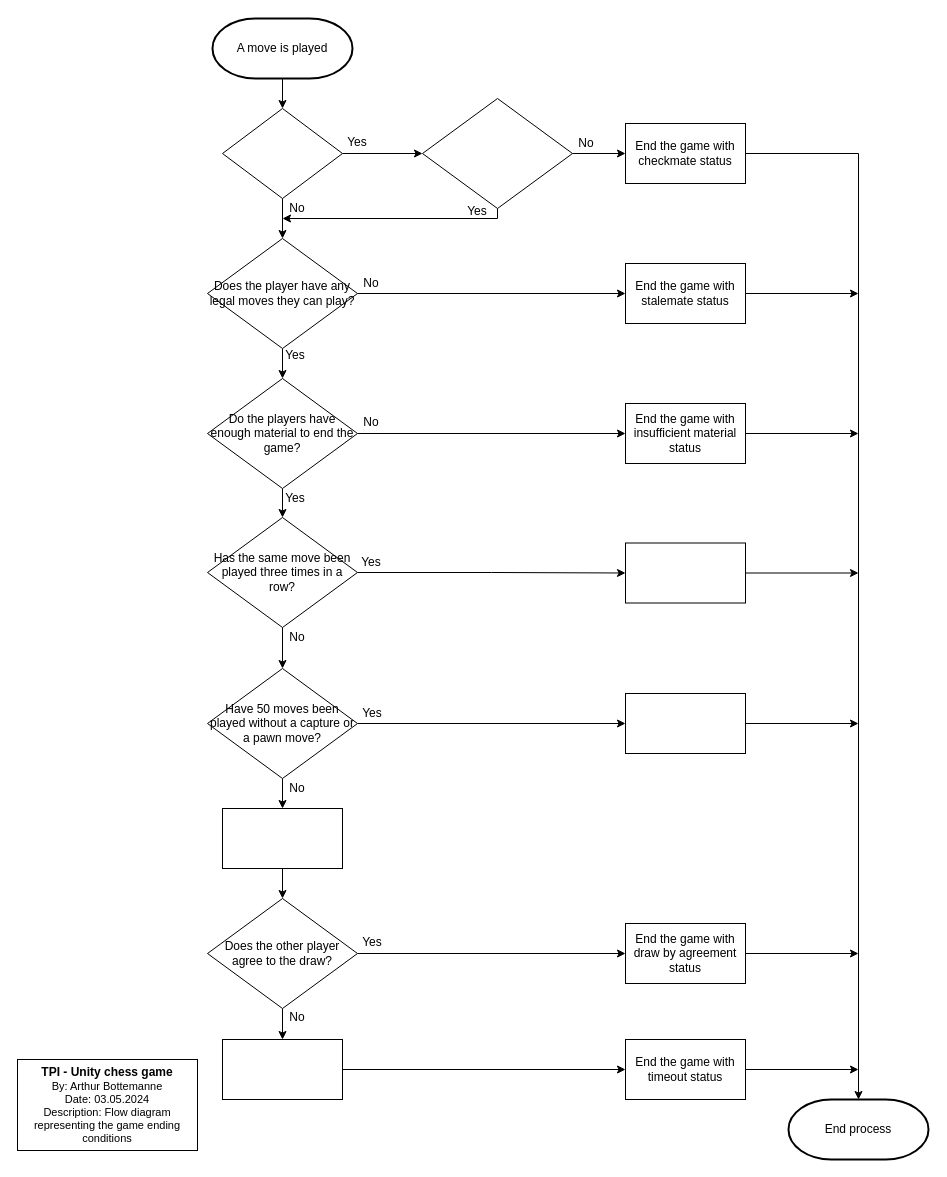
This 947x1177 diagram has some shape labels left out. The shapes that lost their labels are listed below. From the top down, each one's centre as x and y in pixels, then its label:
the point at 282,153: Is the player's king in check?
the point at 497,153: Does the player have a legal move they can play?
the point at 685,572: End the game with theefold repitition status
the point at 685,723: End the game with fifty-move rule status
the point at 282,838: The player asks for a draw
the point at 282,1069: Player's timer has ran out
